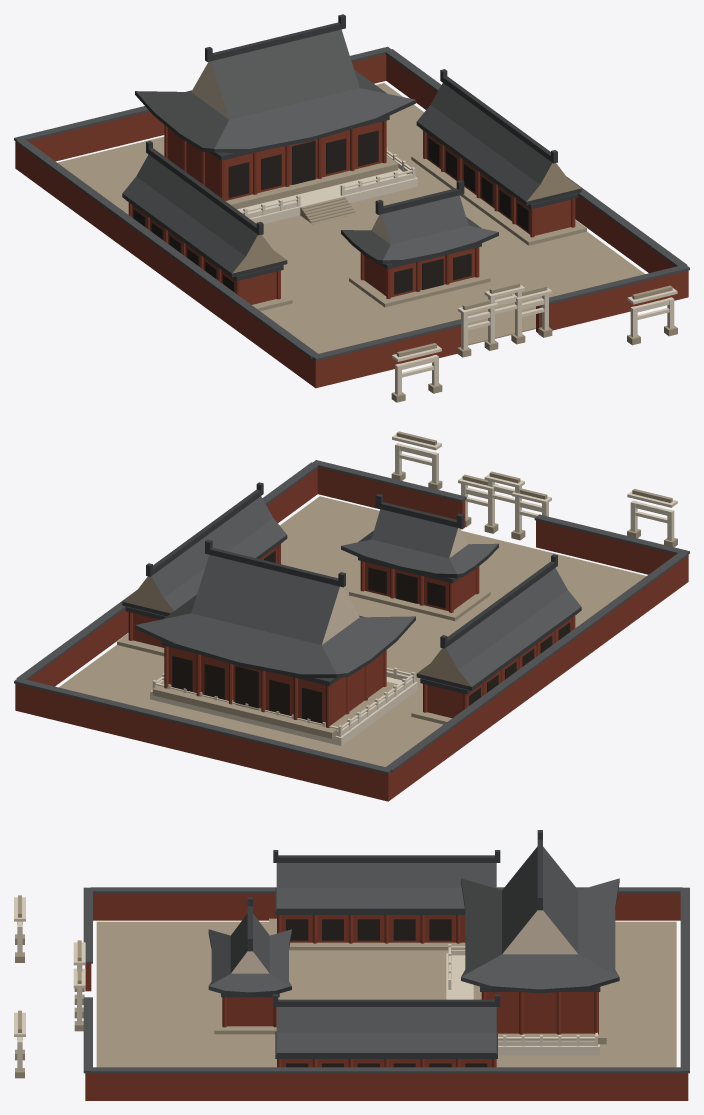
Rendered from X06_far.glb.
The picture shows the model from 3 angles, top to bottom: view 1: azimuth 30°, elevation 25°; view 2: azimuth 150°, elevation 25°; view 3: azimuth 270°, elevation 25°; orthographic projection.
Parts seen in each view (by area): view 1: X06_far; view 2: X06_far; view 3: X06_far.
Part boxes in pixels (x1=…): X06_far: x1=14, y1=14, x2=689, y2=402; X06_far: x1=14, y1=431, x2=689, y2=801; X06_far: x1=14, y1=830, x2=689, y2=1100.
Bounding box in the file's own units: 51.1 × 18.81 × 79.25.
